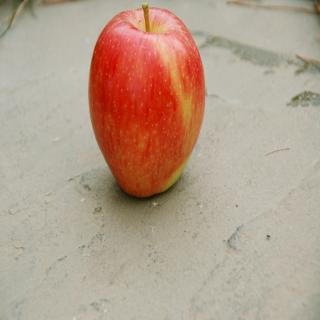Apple: (84, 0, 206, 198)
